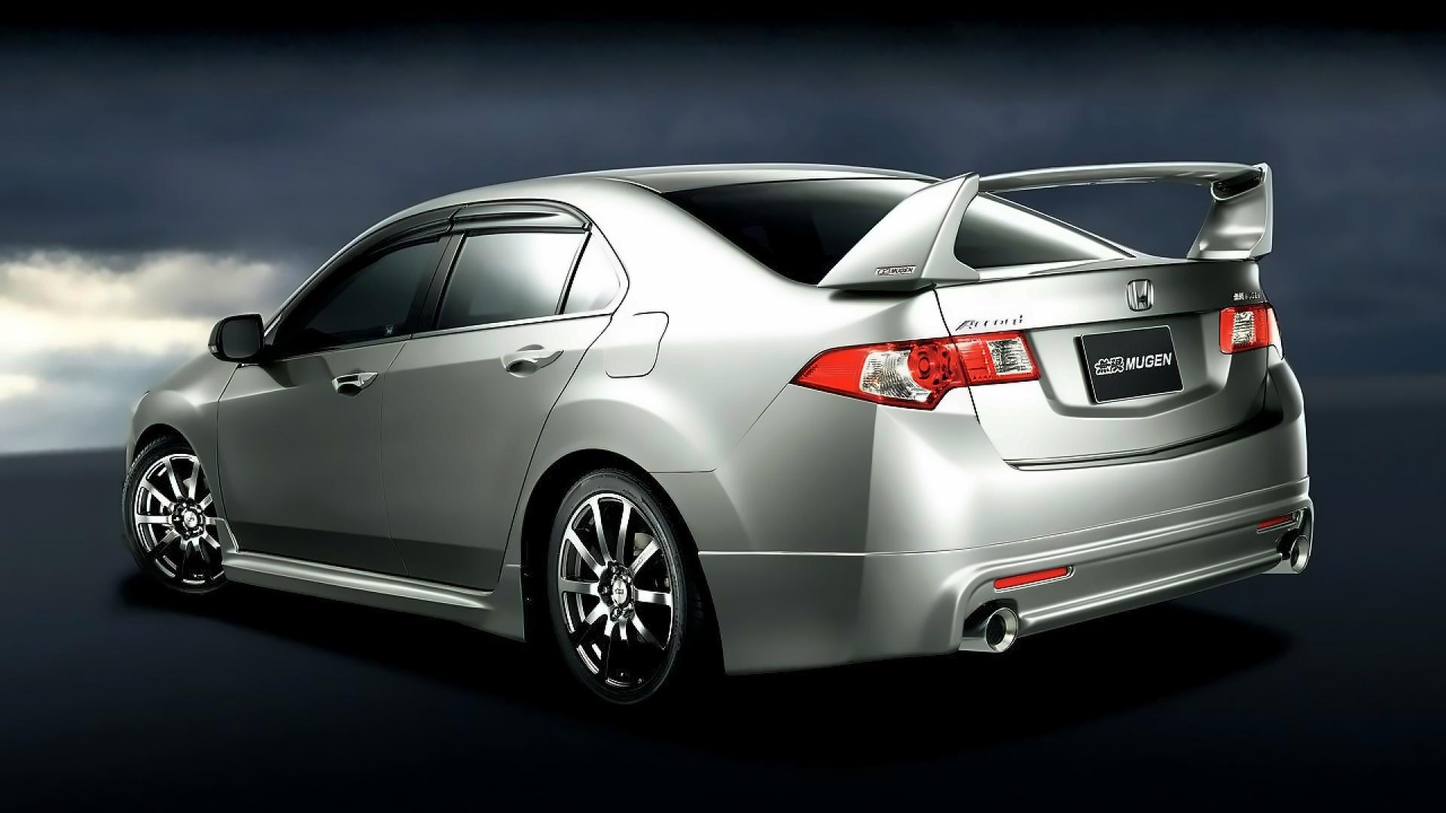Car boot: (910, 231, 1295, 464)
Fender - -F-L-: (121, 323, 246, 528)
Fender - -R-L-: (485, 185, 856, 560)
Passenger-s door - -F-L-: (214, 183, 460, 581)
Passenger-s door - -R-L-: (338, 170, 647, 641)
Rear bumper: (642, 390, 1328, 687)
Rear light - -L-: (793, 325, 1041, 414)
Rear light - -R-: (1215, 297, 1285, 357)
Side bumper - -L-: (221, 508, 533, 649)
Side mirror - -L-: (199, 309, 271, 379)
